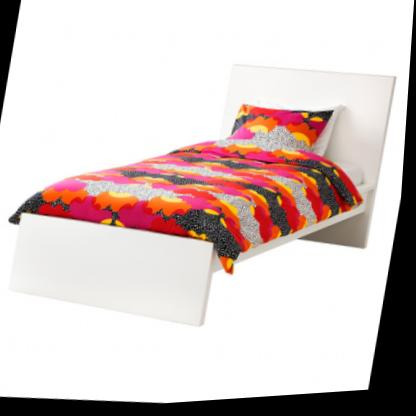Bed: (0, 30, 403, 360)
